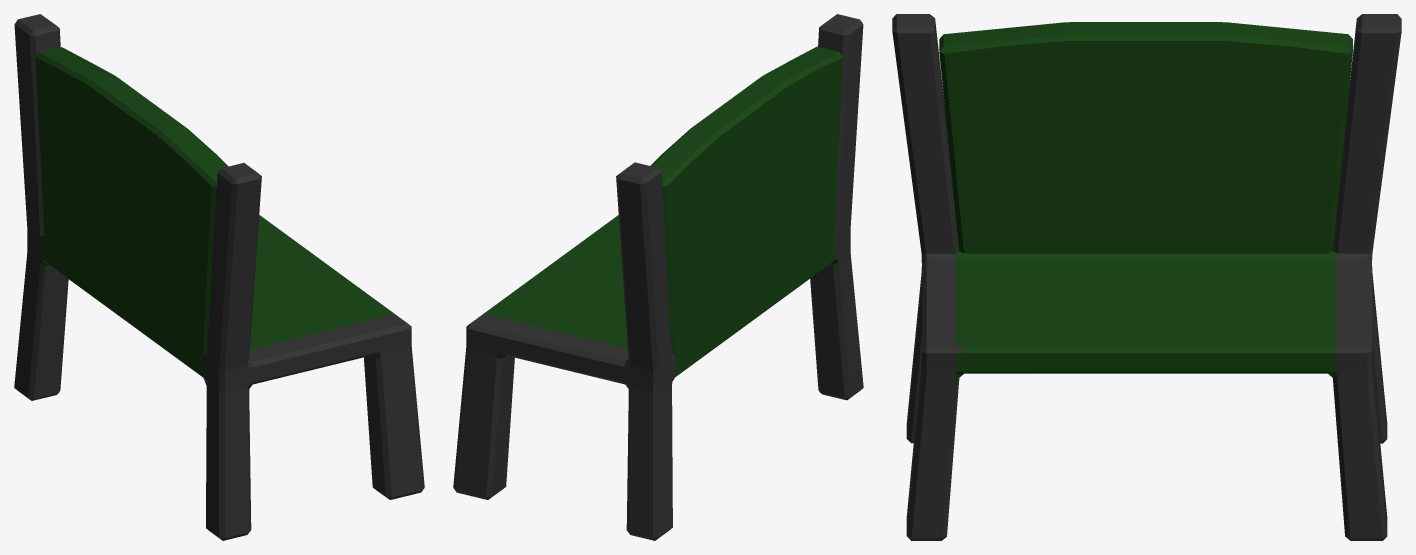
File: Bench_U_SH.fbx
3 views of the same model, side by side, from view 1: azimuth 30°, elevation 25°; view 2: azimuth 150°, elevation 25°; view 3: azimuth 270°, elevation 25° (orthographic). The views are drawn at different scales.
Visible parts, largest first — view 1: pCube1; view 2: pCube1; view 3: pCube1.
Part boxes in pixels (x1,y1,x2,y2): pCube1: (14, 14, 424, 540); pCube1: (453, 14, 863, 540); pCube1: (892, 14, 1401, 540).
Size of the model in its own units: 3.06 by 5.18 by 5.71.
